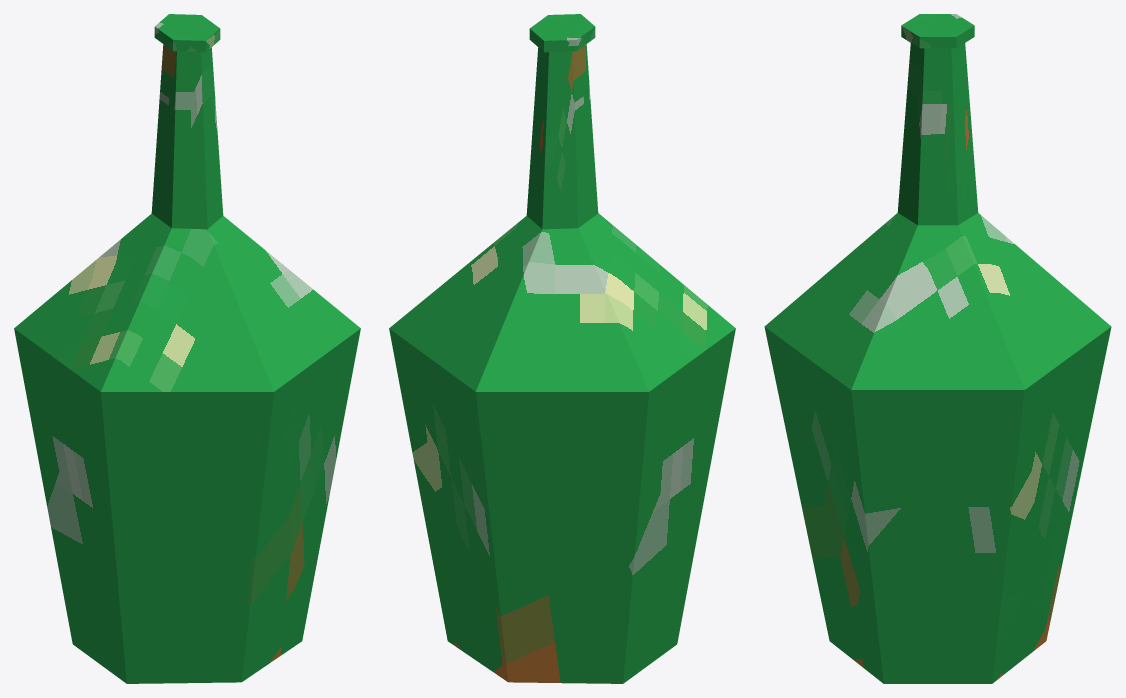
The model's file is Bottle.fbx.
3 renders of one model, left to right at view 1: azimuth 30°, elevation 25°; view 2: azimuth 150°, elevation 25°; view 3: azimuth 270°, elevation 25°, orthographic.
Visible parts, largest first — view 1: Bottle; view 2: Bottle; view 3: Bottle.
Boxes of the visible parts, box(x1,y1,x2,y2) form: Bottle: box(14, 14, 360, 683); Bottle: box(389, 14, 735, 683); Bottle: box(764, 14, 1111, 683).
Bounding box in the file's own units: 1.73 × 3.91 × 2.
Materials: 1 (1 with a texture image).
